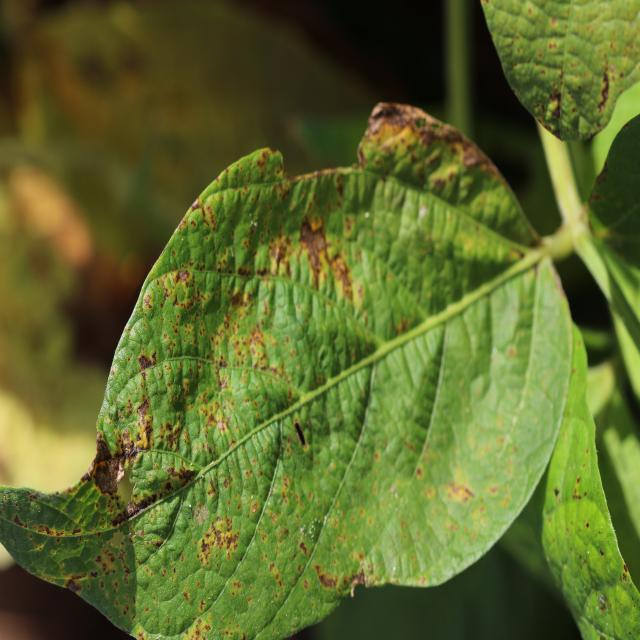Bacterial_Blight: (429, 454, 505, 549), (89, 548, 138, 622), (271, 461, 317, 529), (140, 399, 183, 455), (200, 520, 249, 562), (162, 274, 194, 314), (429, 157, 464, 190), (34, 519, 88, 540), (330, 256, 353, 301), (93, 546, 120, 578), (248, 325, 269, 365), (443, 480, 475, 506), (270, 240, 288, 272), (315, 567, 337, 589), (202, 203, 217, 230), (138, 353, 154, 373), (136, 398, 150, 420), (138, 428, 150, 449), (229, 290, 242, 309), (237, 264, 252, 278), (178, 269, 191, 285), (12, 513, 26, 527), (506, 344, 518, 359), (143, 293, 153, 309), (201, 540, 211, 556), (424, 486, 435, 499), (218, 355, 228, 369), (190, 198, 200, 212), (250, 501, 259, 514), (183, 589, 190, 603), (416, 467, 424, 479), (303, 580, 309, 590), (381, 434, 386, 441)
Soybean: (0, 105, 640, 640)
